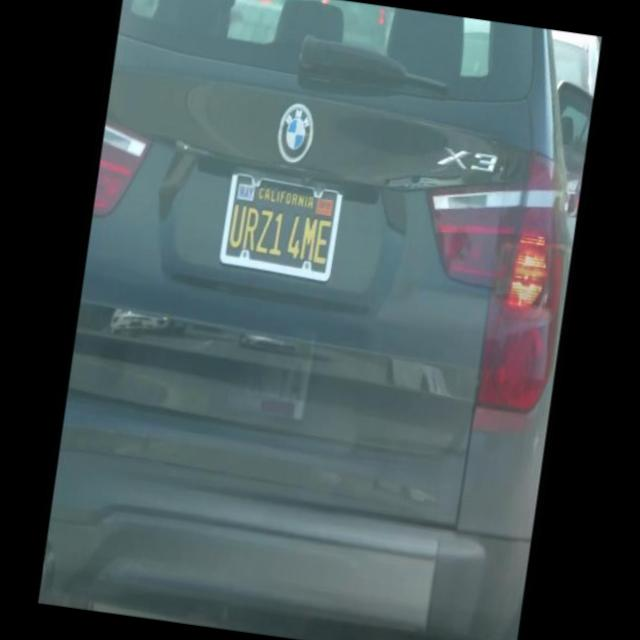LicensePlate: (220, 168, 342, 282)
